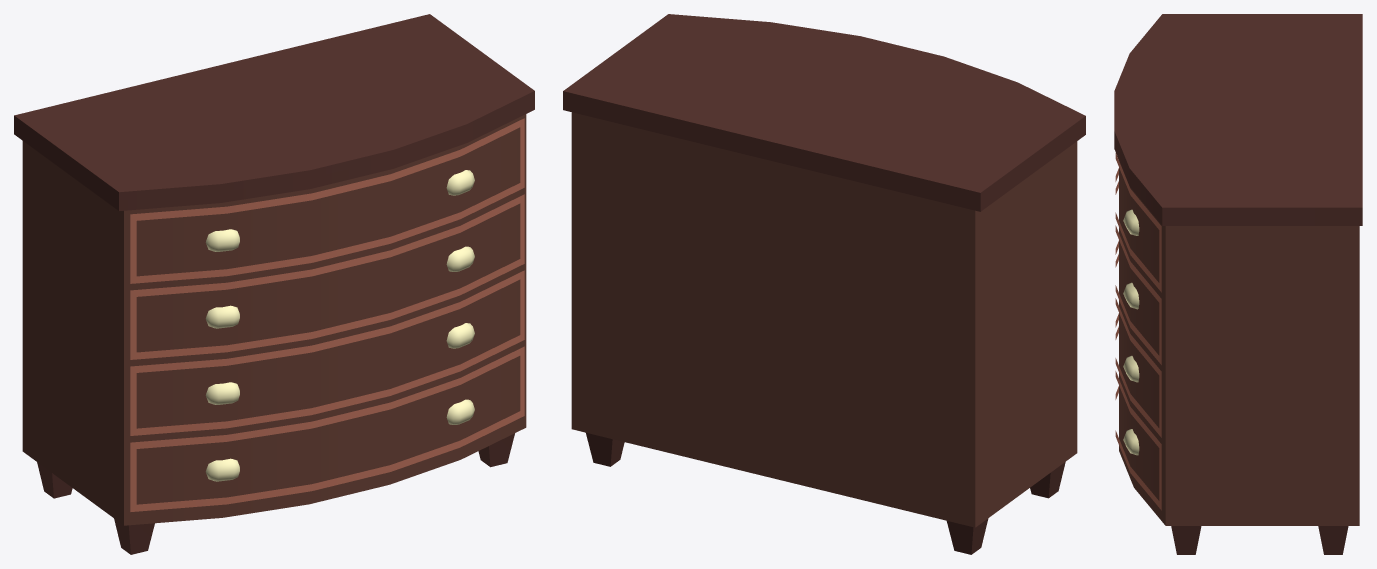
File: Ropero.obj
3 views of the same model, side by side, from view 1: azimuth 30°, elevation 25°; view 2: azimuth 150°, elevation 25°; view 3: azimuth 270°, elevation 25° (orthographic). The views are drawn at different scales.
Parts seen in each view (by area): view 1: dresser_001; view 2: dresser_001; view 3: dresser_001.
Part boxes in pixels (x1,y1,x2,y2): dresser_001: [14, 14, 534, 554]; dresser_001: [563, 14, 1085, 554]; dresser_001: [1114, 14, 1362, 554].
Size of the model in its own units: 7.16 by 6.14 by 3.88.
Materials: 1 (1 with a texture image).
